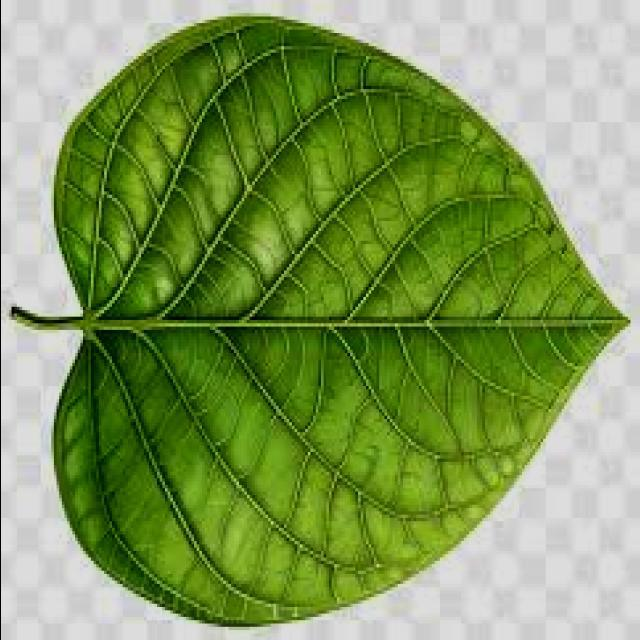leaf: (11, 14, 630, 626)
